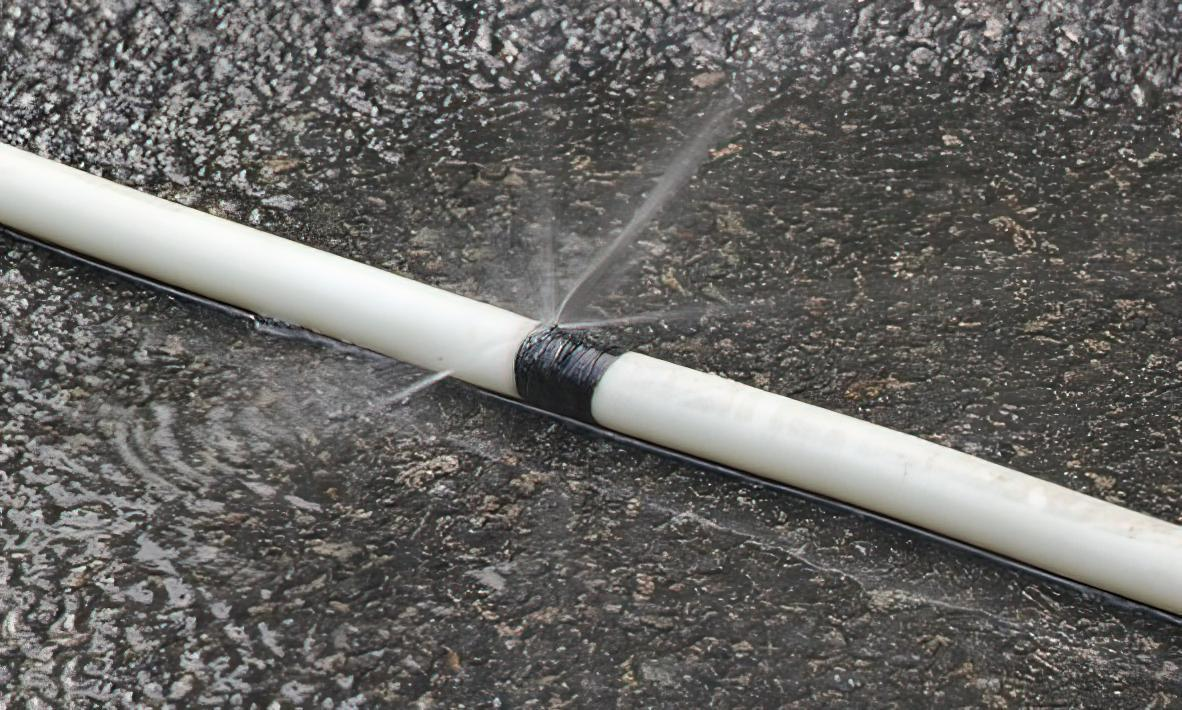pipe burst: (371, 103, 823, 407)
